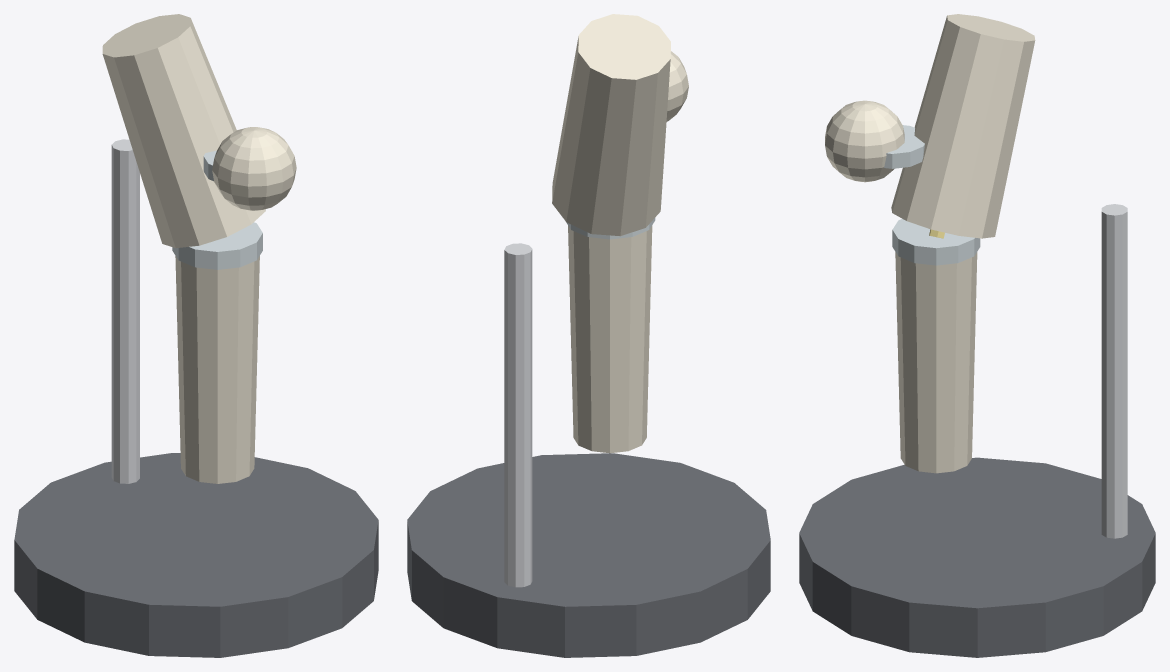
Rendered from human-anatomy-and-education-kit-knee-joint-model-a957b816__38951.glb.
3 renders of one model, left to right at view 1: azimuth 30°, elevation 25°; view 2: azimuth 150°, elevation 25°; view 3: azimuth 270°, elevation 25°, orthographic. The views are drawn at different scales.
Parts seen in each view (by area): view 1: knee-joint-model; view 2: knee-joint-model; view 3: knee-joint-model.
Part boxes in pixels (x1,y1,x2,y2): knee-joint-model: [14, 14, 378, 657]; knee-joint-model: [407, 14, 770, 657]; knee-joint-model: [799, 14, 1155, 657].
Bounding box in the file's own units: 0.26 × 0.4413 × 0.26.
